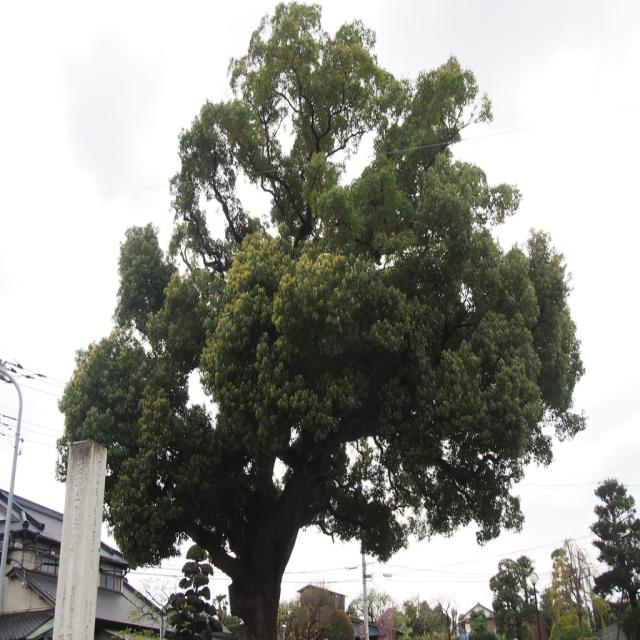camphor: (54, 1, 587, 640)
